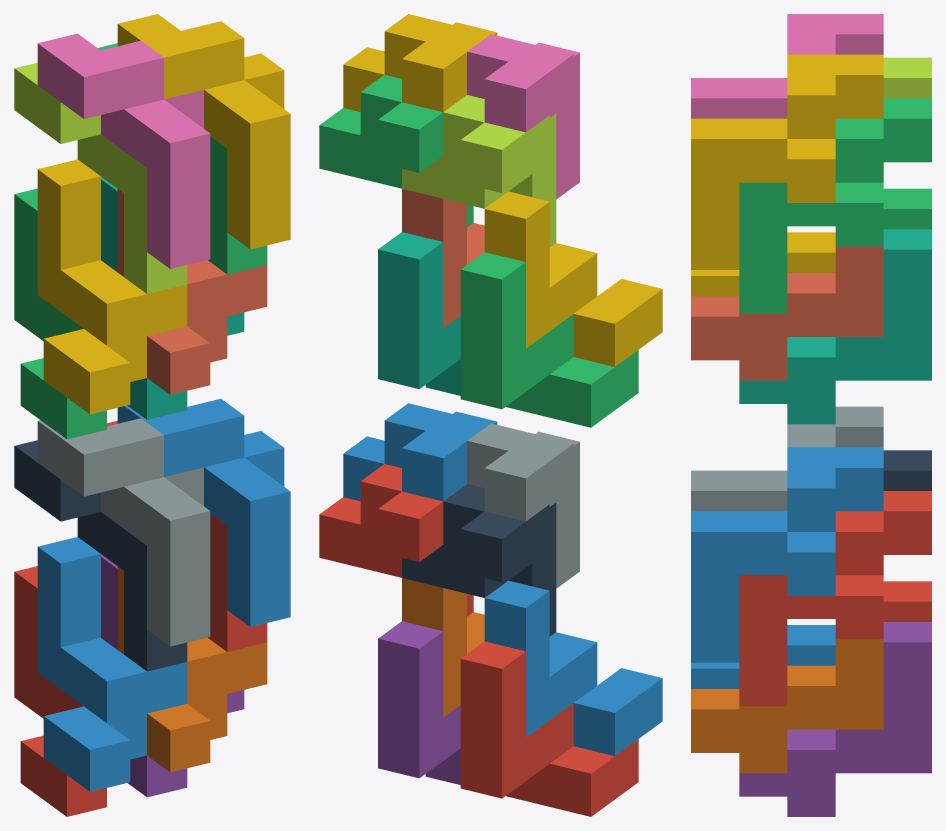
The model's file is tiling.obj.
The picture shows the model from 3 angles, left to right: view 1: azimuth 30°, elevation 25°; view 2: azimuth 150°, elevation 25°; view 3: azimuth 270°, elevation 25°; orthographic projection. The views are drawn at different scales.
Visible parts, largest first — view 1: copy_1_domain_4, copy_1_domain_2, copy_2_domain_4, copy_2_domain_2, copy_2_domain_8, copy_2_domain_6, copy_1_domain_6, copy_1_domain_8, copy_2_domain_3, copy_2_domain_1, copy_1_domain_1, copy_1_domain_3 (+4 smaller); view 2: copy_1_domain_3, copy_1_domain_1, copy_1_domain_2, copy_1_domain_4, copy_2_domain_1, copy_2_domain_3, copy_1_domain_5, copy_1_domain_7, copy_2_domain_4, copy_2_domain_2, copy_2_domain_5, copy_2_domain_7 (+4 smaller); view 3: copy_2_domain_6, copy_2_domain_8, copy_2_domain_7, copy_2_domain_5, copy_1_domain_5, copy_1_domain_7, copy_1_domain_6, copy_1_domain_8, copy_2_domain_4, copy_2_domain_2, copy_1_domain_2, copy_1_domain_4 (+4 smaller).
Part boxes in pixels (x1=…): copy_1_domain_4: x1=37, y1=159, x2=187, y2=414; copy_1_domain_2: x1=37, y1=537, x2=187, y2=791; copy_2_domain_4: x1=37, y1=33, x2=210, y2=268; copy_2_domain_2: x1=37, y1=418, x2=210, y2=646; copy_2_domain_8: x1=117, y1=14, x2=290, y2=249; copy_2_domain_6: x1=117, y1=398, x2=290, y2=626; copy_1_domain_6: x1=117, y1=566, x2=267, y2=772; copy_1_domain_8: x1=117, y1=189, x2=267, y2=394; copy_2_domain_3: x1=14, y1=62, x2=187, y2=293; copy_2_domain_1: x1=14, y1=440, x2=187, y2=671; copy_1_domain_1: x1=14, y1=566, x2=106, y2=816; copy_1_domain_3: x1=14, y1=188, x2=106, y2=439; copy_1_domain_3: x1=460, y1=252, x2=638, y2=427; copy_1_domain_1: x1=460, y1=641, x2=638, y2=816; copy_1_domain_2: x1=484, y1=580, x2=662, y2=756; copy_1_domain_4: x1=484, y1=191, x2=662, y2=366; copy_2_domain_1: x1=402, y1=484, x2=556, y2=636; copy_2_domain_3: x1=402, y1=95, x2=556, y2=247; copy_1_domain_5: x1=378, y1=621, x2=508, y2=796; copy_1_domain_7: x1=378, y1=232, x2=508, y2=407; copy_2_domain_4: x1=467, y1=34, x2=579, y2=199; copy_2_domain_2: x1=467, y1=423, x2=579, y2=588; copy_2_domain_5: x1=319, y1=464, x2=473, y2=616; copy_2_domain_7: x1=319, y1=74, x2=473, y2=227; copy_2_domain_6: x1=691, y1=447, x2=883, y2=662; copy_2_domain_8: x1=691, y1=54, x2=883, y2=269; copy_2_domain_7: x1=739, y1=98, x2=931, y2=313; copy_2_domain_5: x1=739, y1=491, x2=931, y2=706; copy_1_domain_5: x1=739, y1=622, x2=931, y2=816; copy_1_domain_7: x1=739, y1=229, x2=931, y2=424; copy_1_domain_6: x1=691, y1=639, x2=883, y2=773; copy_1_domain_8: x1=691, y1=246, x2=883, y2=380; copy_2_domain_4: x1=691, y1=14, x2=883, y2=118; copy_2_domain_2: x1=691, y1=406, x2=883, y2=511; copy_1_domain_2: x1=691, y1=625, x2=835, y2=688; copy_1_domain_4: x1=691, y1=232, x2=835, y2=296.
Size of the model in its own units: 6 by 17 by 5.
